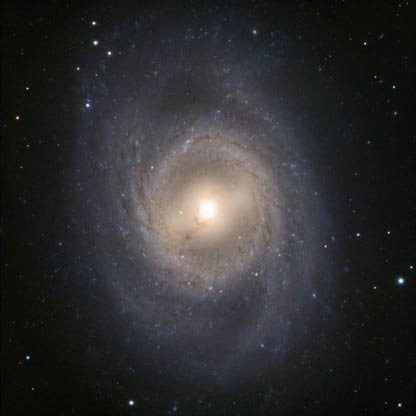Messier 95: (48, 17, 352, 405)
